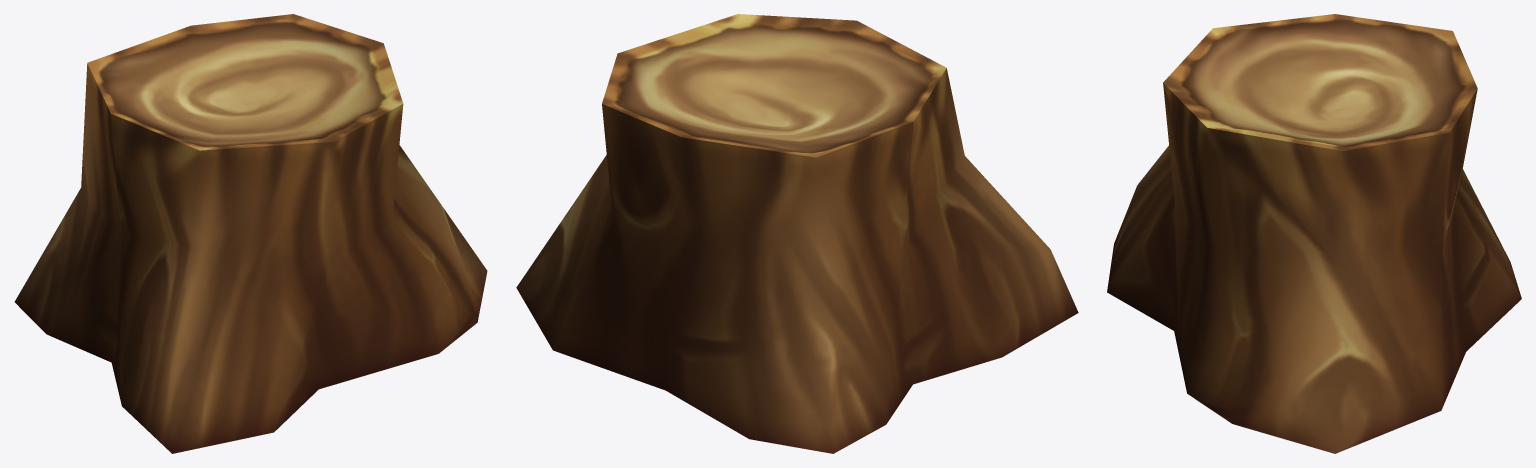
The model's file is tree_stump.fbx.
The picture shows the model from 3 angles, left to right: view 1: azimuth 30°, elevation 25°; view 2: azimuth 150°, elevation 25°; view 3: azimuth 270°, elevation 25°; orthographic projection. The views are drawn at different scales.
Parts seen in each view (by area): view 1: tree_stump; view 2: tree_stump; view 3: tree_stump.
Part boxes in pixels (x1,y1,x2,y2): tree_stump: (14,14,487,453); tree_stump: (516,14,1078,453); tree_stump: (1107,14,1521,453).
Size of the model in its own units: 36.06 by 20.24 by 30.06.
